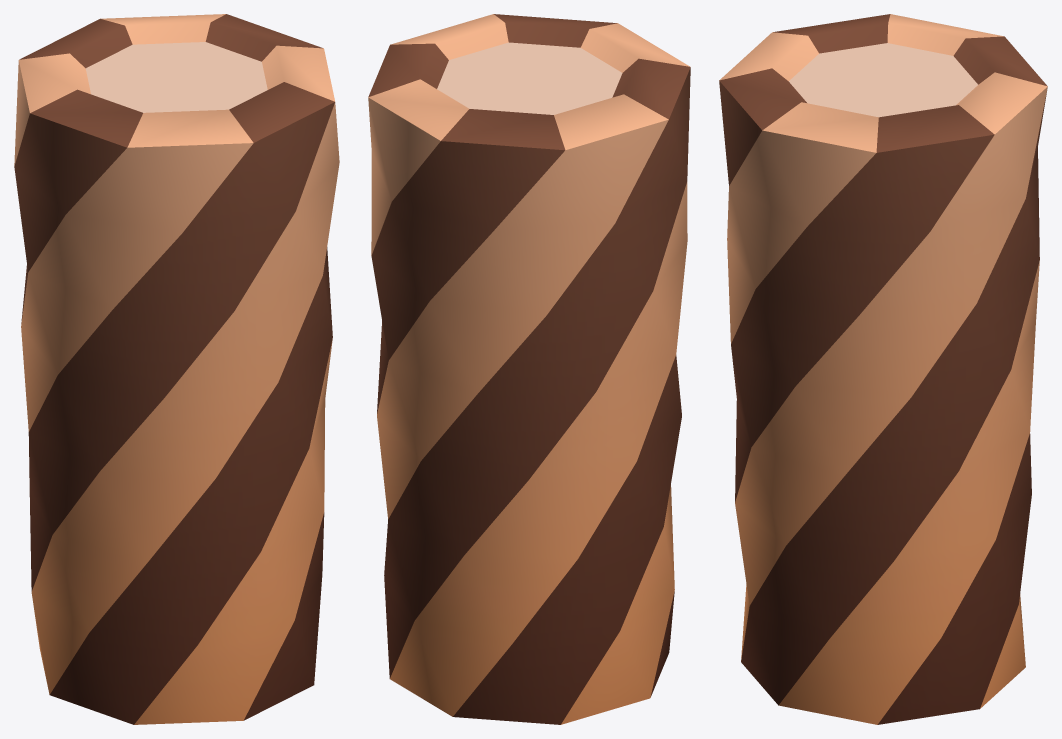
The model's file is FencePillar_03.glb.
3 renders of one model, left to right at view 1: azimuth 30°, elevation 25°; view 2: azimuth 150°, elevation 25°; view 3: azimuth 270°, elevation 25°, orthographic.
Parts seen in each view (by area): view 1: FencePillar_03; view 2: FencePillar_03; view 3: FencePillar_03.
Part boxes in pixels (x1=…): FencePillar_03: x1=14, y1=14, x2=339, y2=724; FencePillar_03: x1=368, y1=14, x2=690, y2=724; FencePillar_03: x1=719, y1=14, x2=1047, y2=724.
Bounding box in the file's own units: 0.5782 × 1.15 × 0.5782.
1 material, 1 textured.
